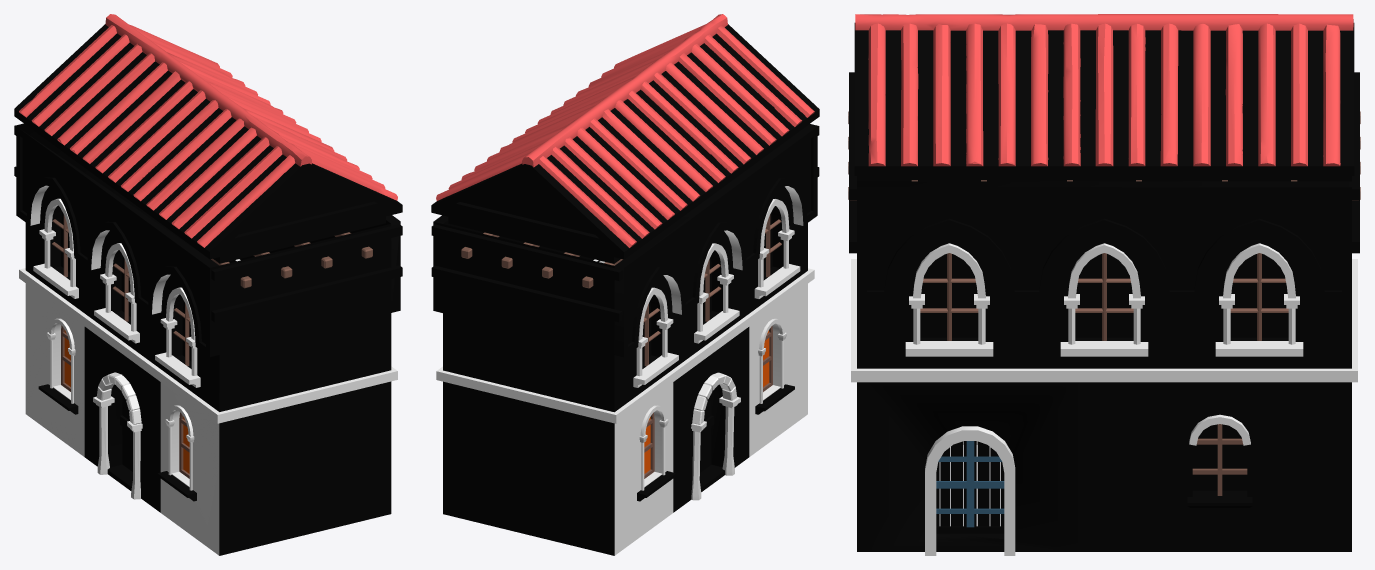
File: civilian_house_38_f.FBX
3 views of the same model, side by side, from view 1: azimuth 30°, elevation 25°; view 2: azimuth 150°, elevation 25°; view 3: azimuth 270°, elevation 25° (orthographic). The views are drawn at different scales.
Visible parts, largest first — view 1: civilian_house_38_f_LOD0; view 2: civilian_house_38_f_LOD0; view 3: civilian_house_38_f_LOD0.
Part boxes in pixels (x1,y1,x2,y2): civilian_house_38_f_LOD0: (14,14,402,555); civilian_house_38_f_LOD0: (431,14,819,555); civilian_house_38_f_LOD0: (848,14,1360,555).
Size of what is drawn, in the model's own units: 590 by 1080 by 1035.
